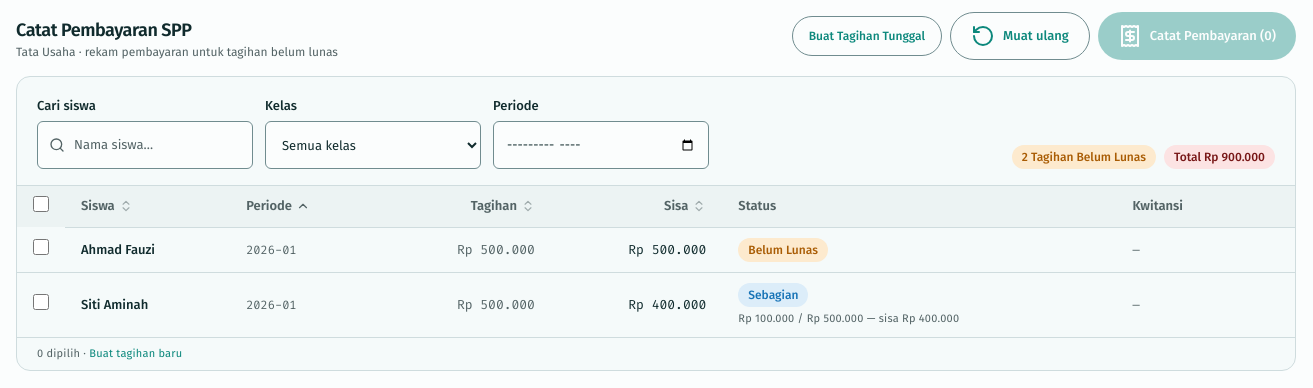
Test: SppPaymentsPage › filters the list by student search
The width and height of the screenshot is (1313, 388).
Expected: the text "Ahmad Fauzi" is shown, 65,227 -> 230,272
Type "Siti" into the search field labelled "Cari siswa".
click(145, 145); type("Siti")  # box 37,121 -> 253,169
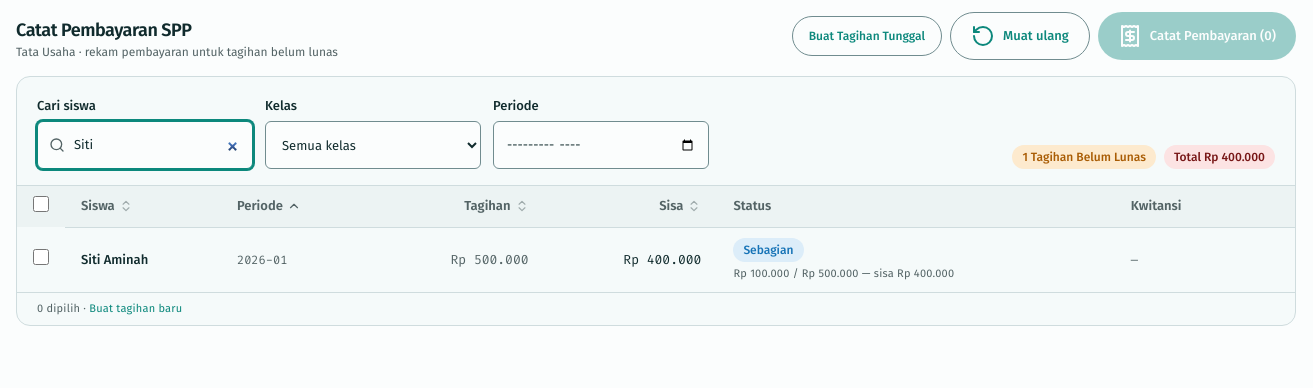
Expected: the text "Siti Aminah" is shown, 65,227 -> 221,292
Expected: the text "Ahmad Fauzi" is gone
